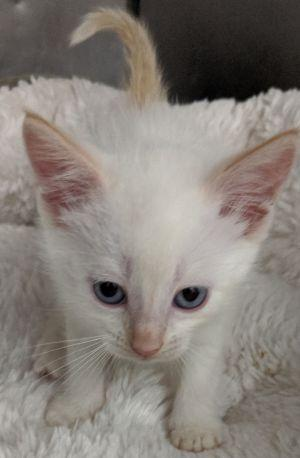siamese: (12, 98, 300, 383)
